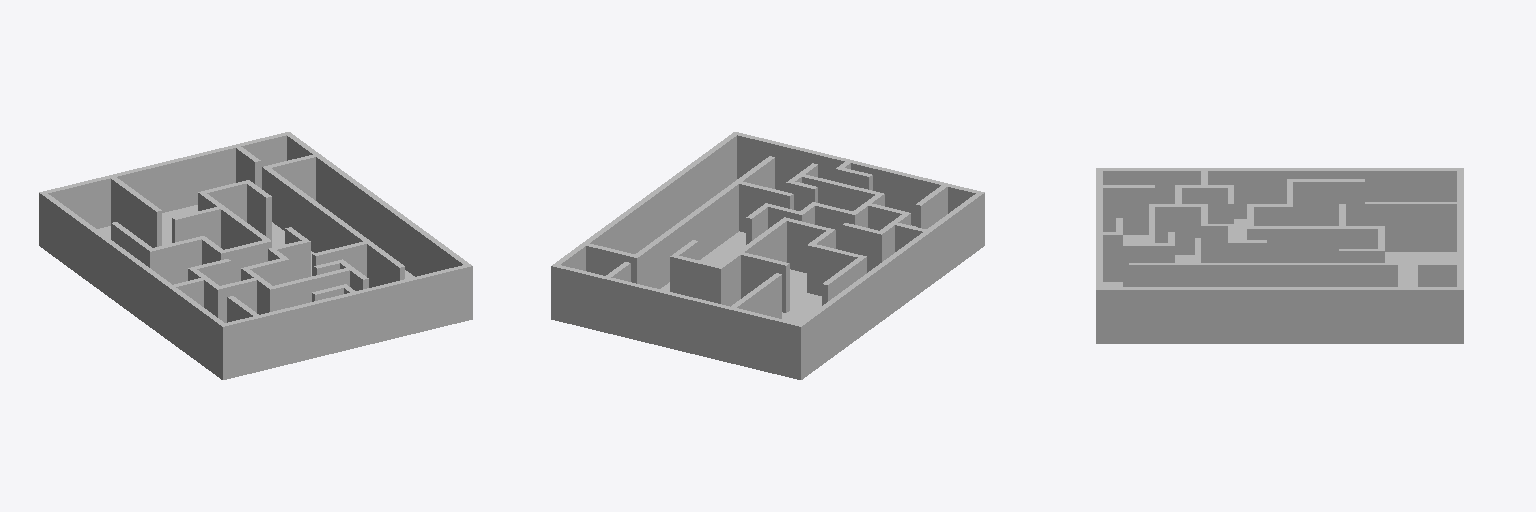
The model's file is Map 3.obj.
3 renders of one model, left to right at view 1: azimuth 30°, elevation 25°; view 2: azimuth 150°, elevation 25°; view 3: azimuth 270°, elevation 25°, orthographic.
Parts seen in each view (by area): view 1: Map 3; view 2: Map 3; view 3: Map 3.
Part boxes in pixels (x1,y1,x2,y2): Map 3: (39,132,472,379); Map 3: (551,132,984,379); Map 3: (1096,168,1463,343).
Size of the model in its own units: 44 by 9 by 56.